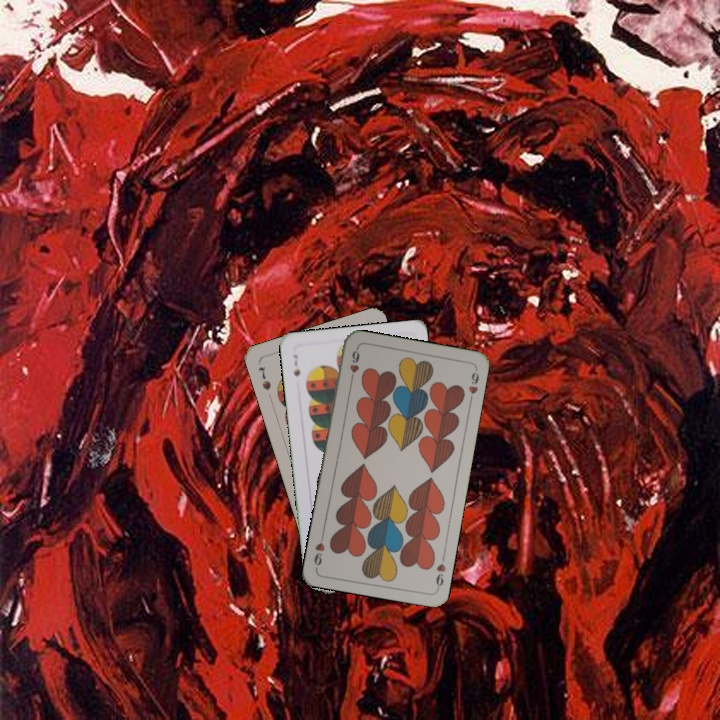H9: (345, 345, 362, 385), (432, 551, 448, 592)
S7: (254, 363, 274, 393), (289, 351, 303, 379)
